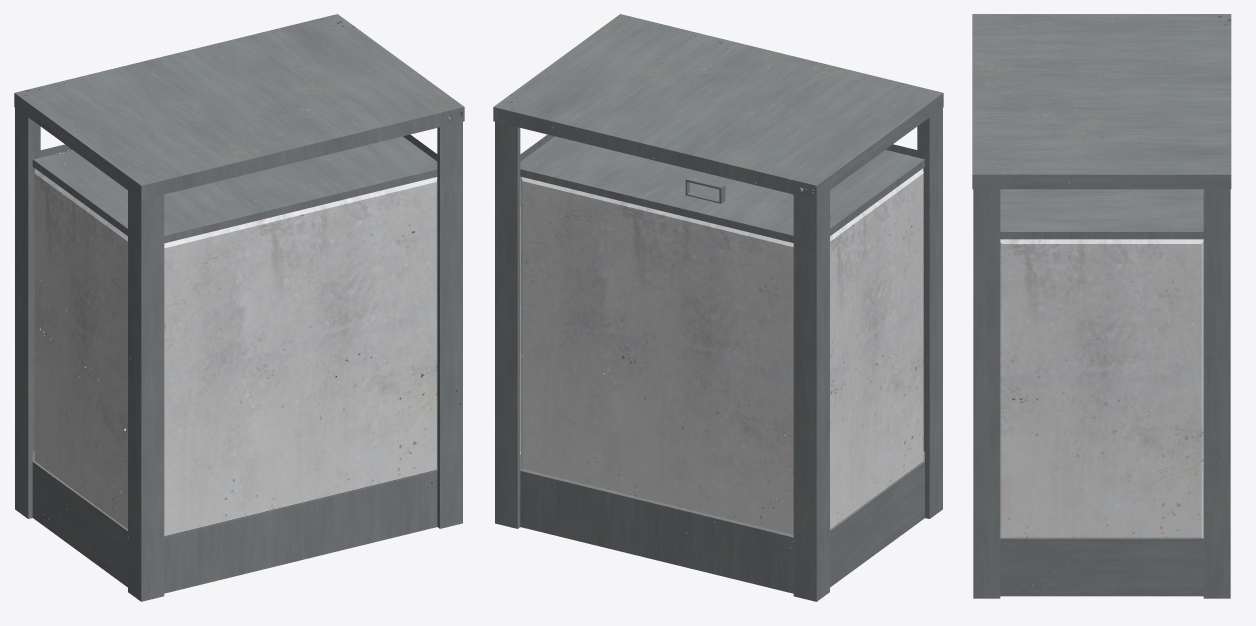
File: 055_foodwarmer.fbx
3 views of the same model, side by side, from view 1: azimuth 30°, elevation 25°; view 2: azimuth 150°, elevation 25°; view 3: azimuth 270°, elevation 25° (orthographic).
Visible parts, largest first — view 1: LOD_1_Group_0_Sub_1__sm31_055_FoodWarmer01A_Mat, LOD_1_Group_0_Sub_2__sm31_055_FoodWarmer01A_Glass_Mat1; view 2: LOD_1_Group_0_Sub_1__sm31_055_FoodWarmer01A_Mat, LOD_1_Group_0_Sub_2__sm31_055_FoodWarmer01A_Glass_Mat1; view 3: LOD_1_Group_0_Sub_1__sm31_055_FoodWarmer01A_Mat, LOD_1_Group_0_Sub_2__sm31_055_FoodWarmer01A_Glass_Mat1.
Part boxes in pixels (x1,y1,x2,y2): LOD_1_Group_0_Sub_1__sm31_055_FoodWarmer01A_Mat: (14,14,464,601); LOD_1_Group_0_Sub_2__sm31_055_FoodWarmer01A_Glass_Mat1: (34,152,437,536); LOD_1_Group_0_Sub_1__sm31_055_FoodWarmer01A_Mat: (493,14,943,601); LOD_1_Group_0_Sub_2__sm31_055_FoodWarmer01A_Glass_Mat1: (520,158,923,535); LOD_1_Group_0_Sub_1__sm31_055_FoodWarmer01A_Mat: (972,14,1231,598); LOD_1_Group_0_Sub_2__sm31_055_FoodWarmer01A_Glass_Mat1: (1000,221,1203,538).
Size of the model in its own units: 0.6165 by 0.7883 by 0.4361.
